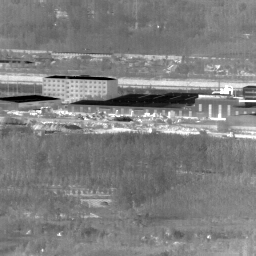aircraft: (84, 48, 86, 50)
